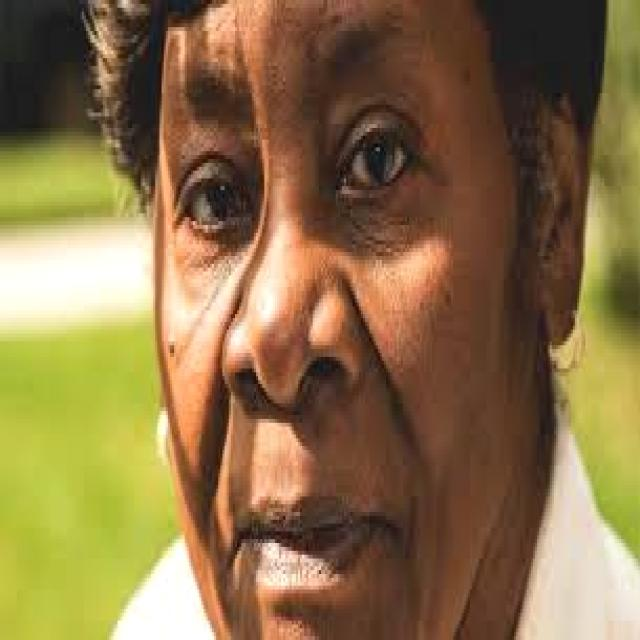normal_face: (157, 0, 533, 640)
